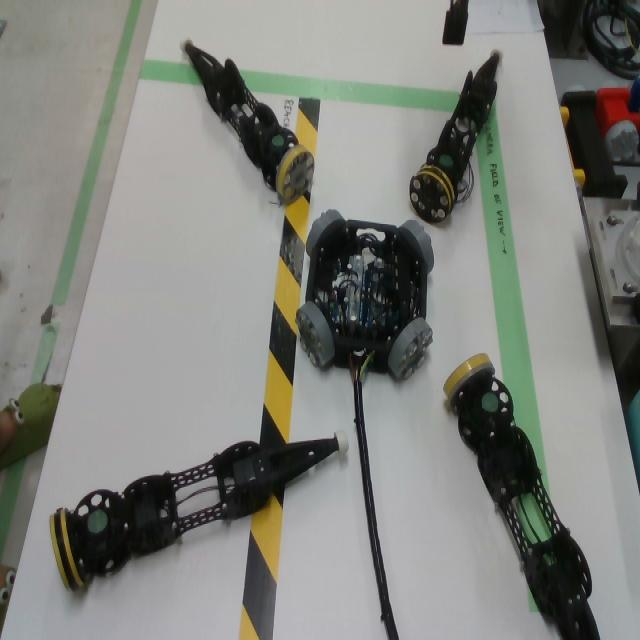body: (305, 219, 427, 373)
body_connector: (388, 317, 434, 380), (295, 303, 335, 368), (398, 220, 434, 275), (306, 209, 346, 257)
leg: (50, 428, 350, 591), (442, 353, 601, 640), (179, 35, 315, 204), (410, 47, 504, 224)
leg_connector: (50, 508, 85, 592), (409, 164, 456, 224), (443, 353, 496, 401), (276, 145, 315, 205)
leg_marker: (87, 509, 109, 535), (482, 393, 499, 413), (439, 155, 454, 165), (272, 135, 284, 147)
